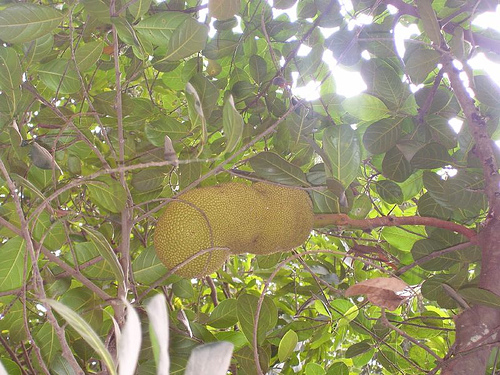jackfruit: (153, 176, 491, 281)
